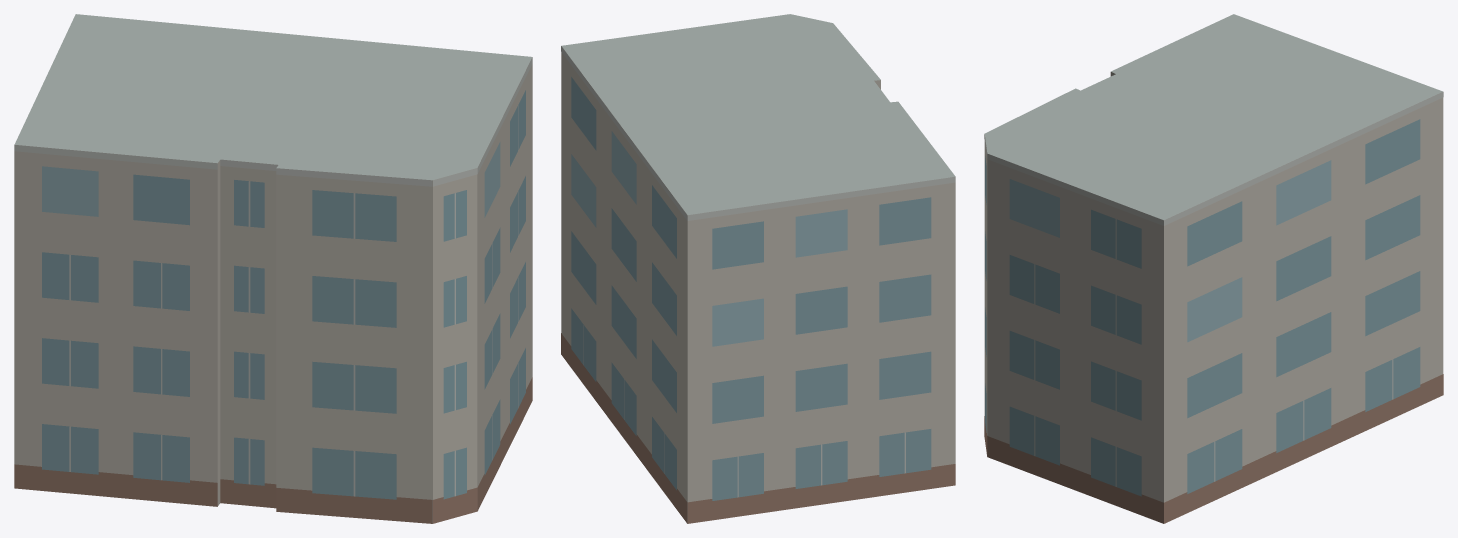
Rendered from survey-upis-32524282.glb.
The picture shows the model from 3 angles, left to right: view 1: azimuth 30°, elevation 25°; view 2: azimuth 150°, elevation 25°; view 3: azimuth 270°, elevation 25°; orthographic projection. The views are drawn at different scales.
Parts seen in each view (by area): view 1: survey-upis-32524282.tmp; view 2: survey-upis-32524282.tmp; view 3: survey-upis-32524282.tmp.
Part boxes in pixels (x1,y1,x2,y2): survey-upis-32524282.tmp: (14,14,532,523); survey-upis-32524282.tmp: (561,14,955,523); survey-upis-32524282.tmp: (984,14,1443,523).
Size of the model in its own units: 18.81 by 12.9 by 17.68.
